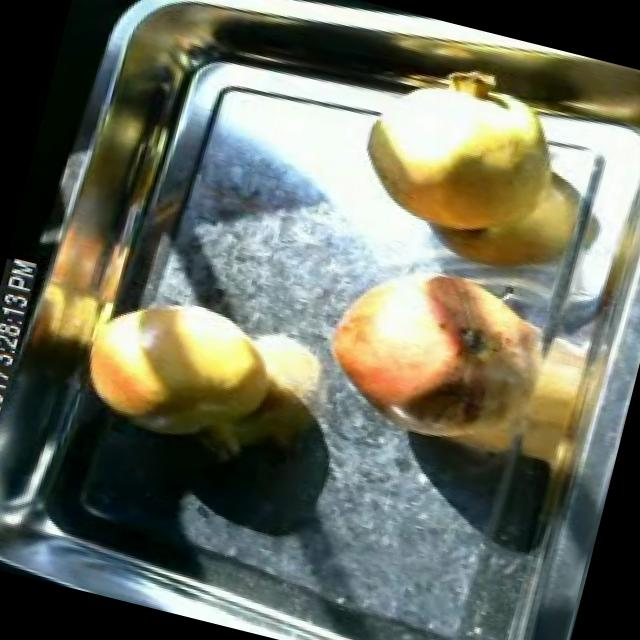fruit: (296, 230, 581, 477), (330, 44, 592, 264), (61, 272, 292, 464)
